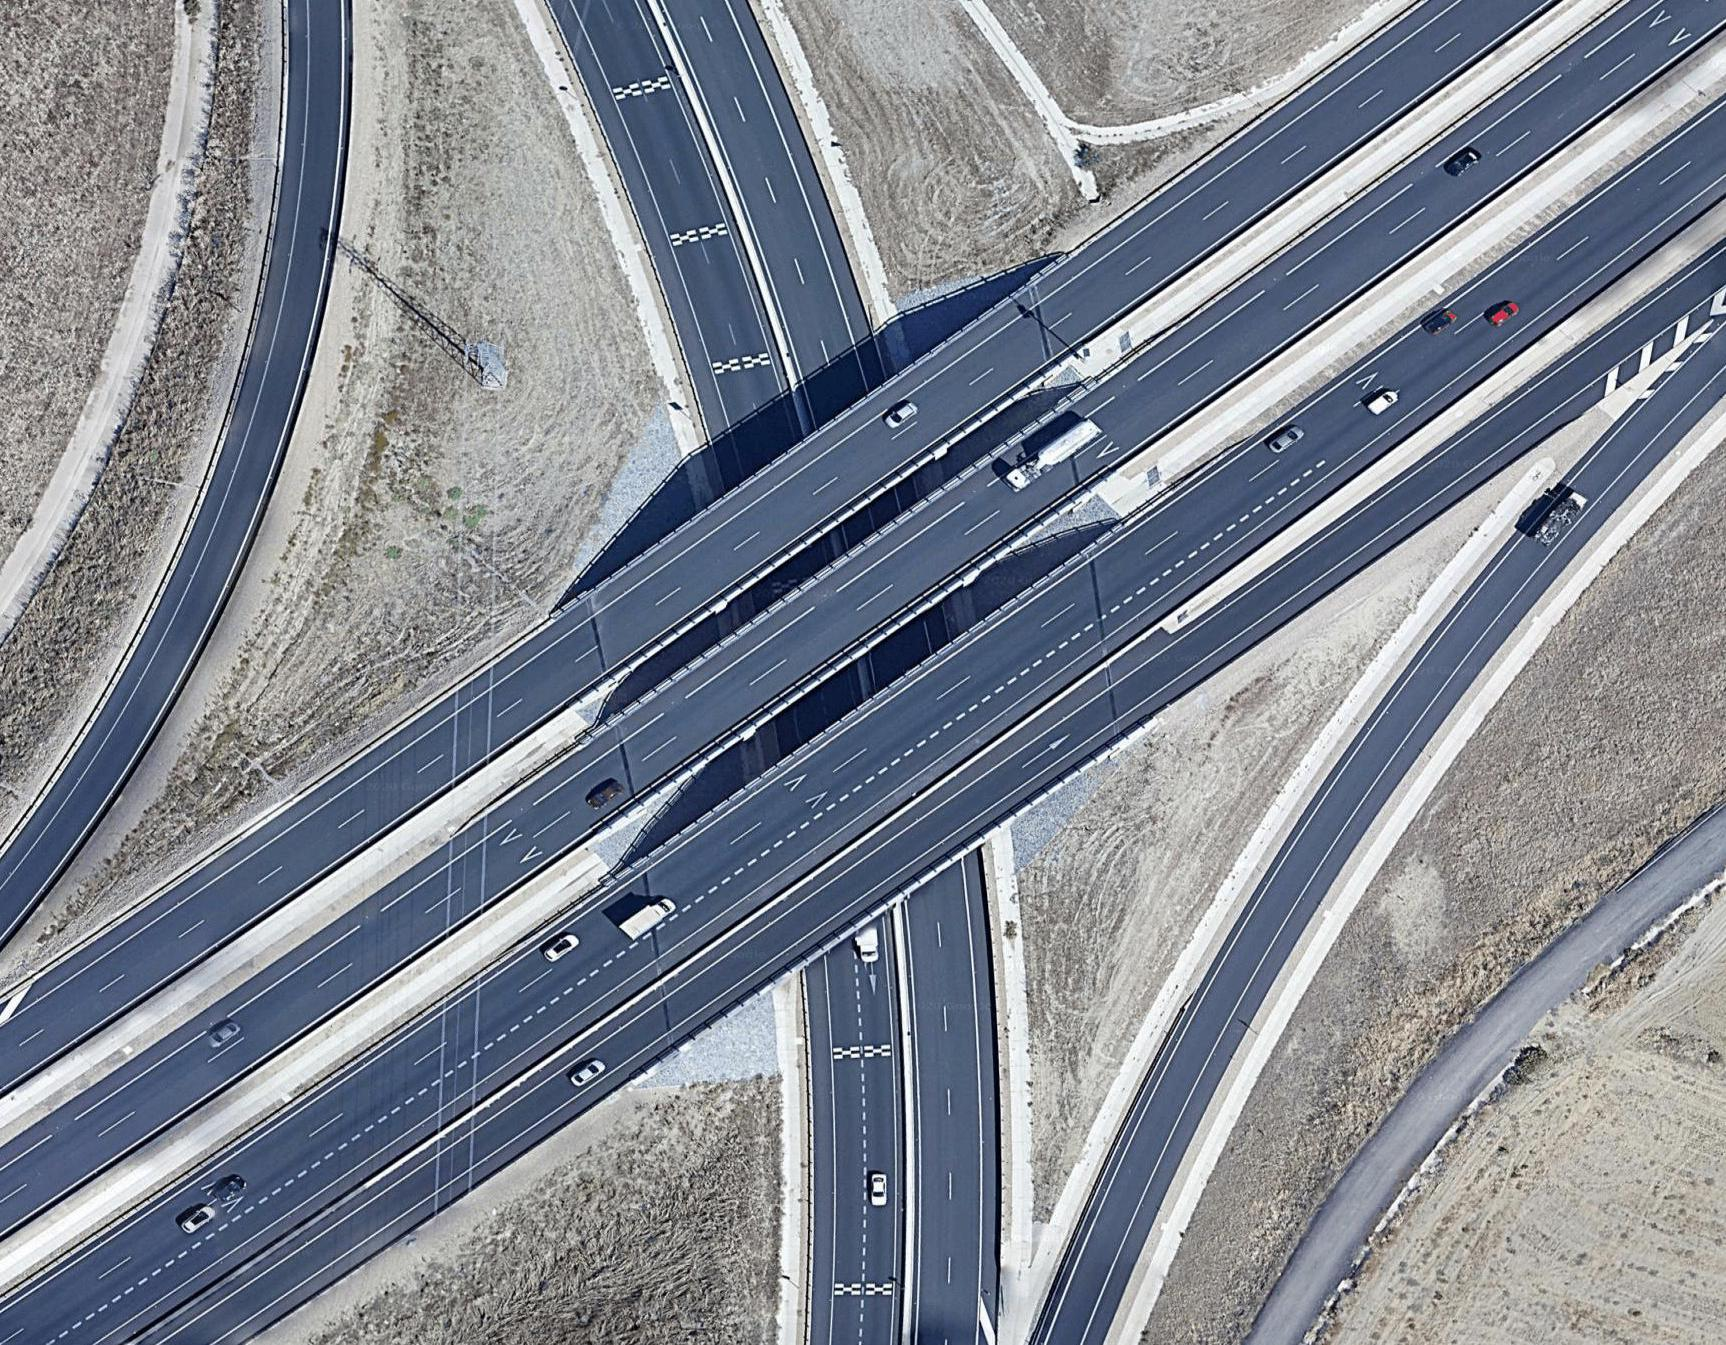bridge: (608, 453, 1126, 963)
large-vehicle: (1538, 488, 1585, 545), (619, 894, 677, 939)
small-vehicle: (539, 927, 579, 963), (1421, 307, 1458, 338), (1479, 297, 1517, 328)
